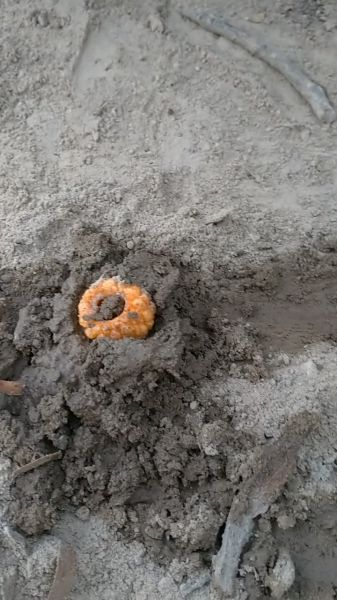eggs: (76, 264, 161, 353)
